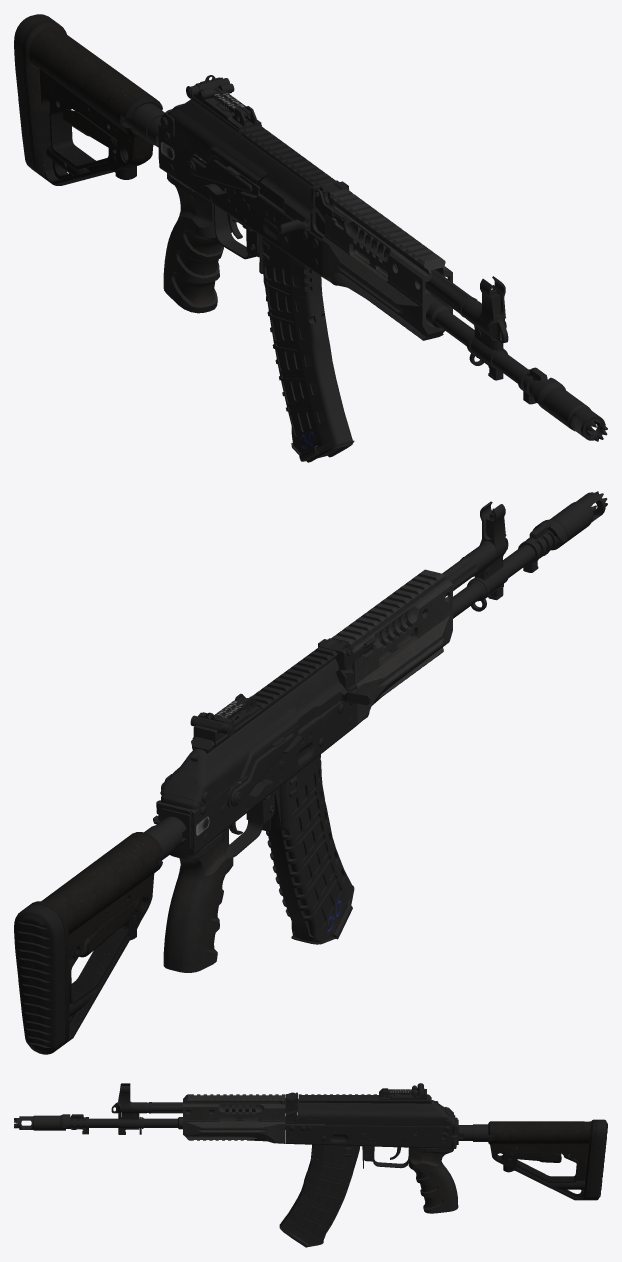
The model's file is ak-12_low-poly_-_game_ready_4k_hd_pbr.glb.
3 renders of one model, top to bottom at view 1: azimuth 30°, elevation 25°; view 2: azimuth 150°, elevation 25°; view 3: azimuth 270°, elevation 25°, orthographic. The views are drawn at different scales.
Parts seen in each view (by area): view 1: Stock, Body, magazine, handguard, Barrel, Grip, Iron sight, bolt, Safety; view 2: Stock, Body, magazine, handguard, Barrel, Grip, Iron sight, Safety, bolt; view 3: Body, Stock, magazine, handguard, Barrel, Grip, Iron sight.
Part boxes in pixels (x1,y1,x2,y2): Stock: (14, 14, 164, 185); Body: (158, 98, 349, 277); magazine: (261, 237, 354, 462); handguard: (322, 189, 452, 340); Barrel: (357, 229, 607, 441); Grip: (163, 173, 231, 313); Iron sight: (186, 75, 261, 134); bolt: (256, 173, 313, 234); Safety: (188, 154, 260, 198); Stock: (14, 816, 186, 1054); Body: (153, 638, 375, 857); magazine: (266, 754, 354, 944); handguard: (331, 569, 452, 725); Barrel: (378, 491, 607, 659); Grip: (163, 827, 233, 972); Iron sight: (190, 693, 261, 747); Safety: (227, 725, 302, 809); bolt: (295, 672, 370, 729); Body: (285, 1092, 458, 1168); Stock: (458, 1119, 607, 1200); magazine: (279, 1144, 359, 1247); handguard: (183, 1094, 285, 1143); Barrel: (14, 1083, 285, 1134); Grip: (408, 1147, 458, 1213); Iron sight: (379, 1083, 426, 1102).
Bounding box in the file's own units: 0.0675 × 0.2817 × 0.9499.
7 materials, 7 textured.
